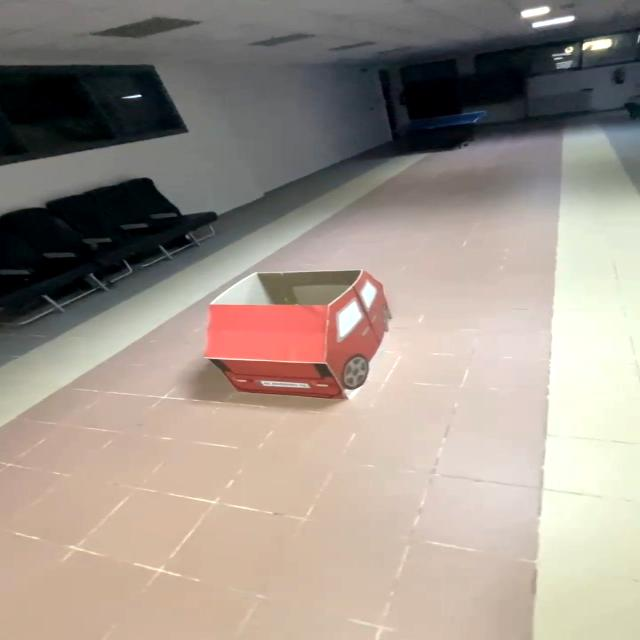red_car: (164, 257, 427, 427)
